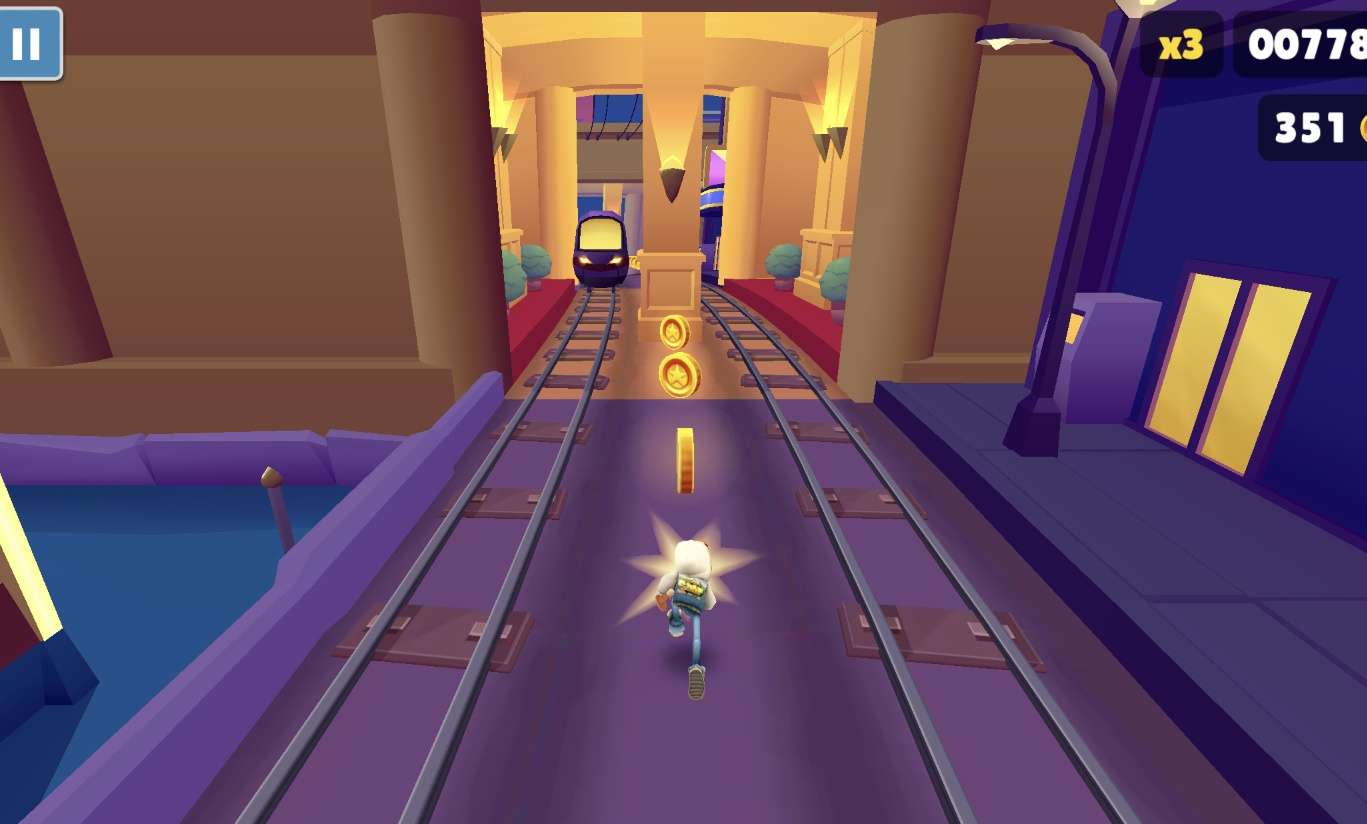pillar: (638, 29, 707, 342)
train: (572, 210, 632, 291)
